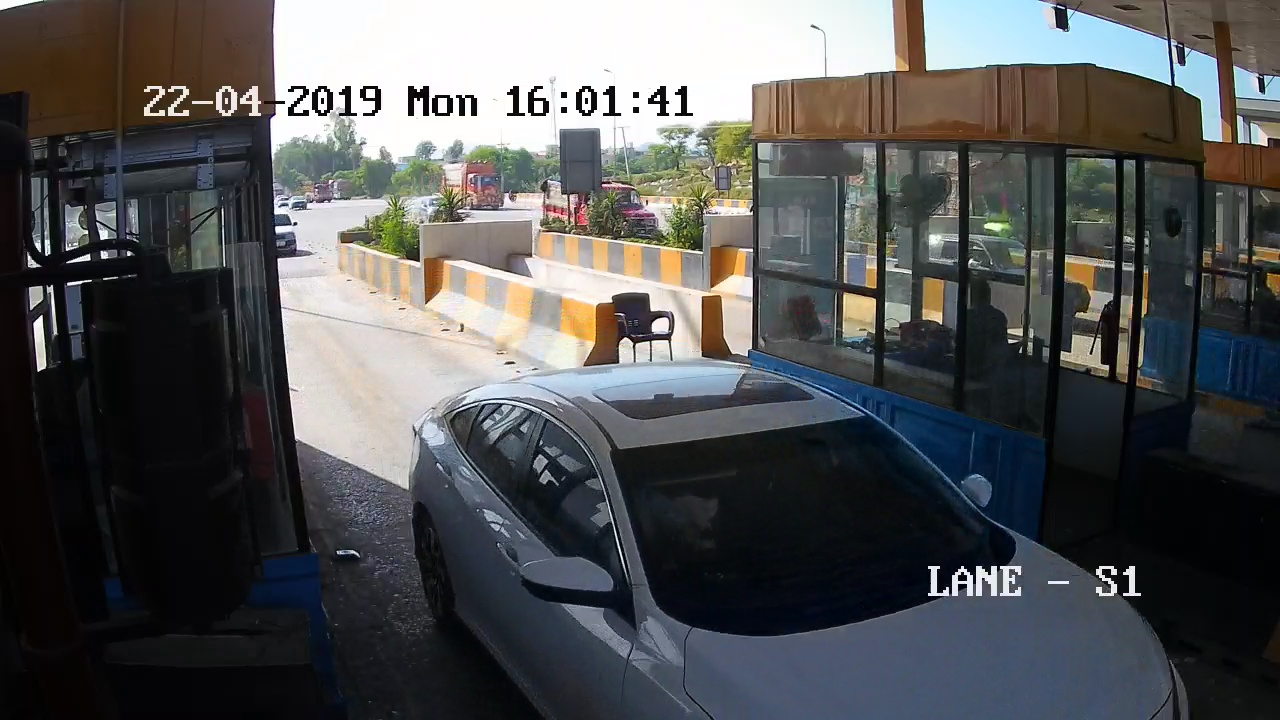car: (397, 357, 966, 713)
